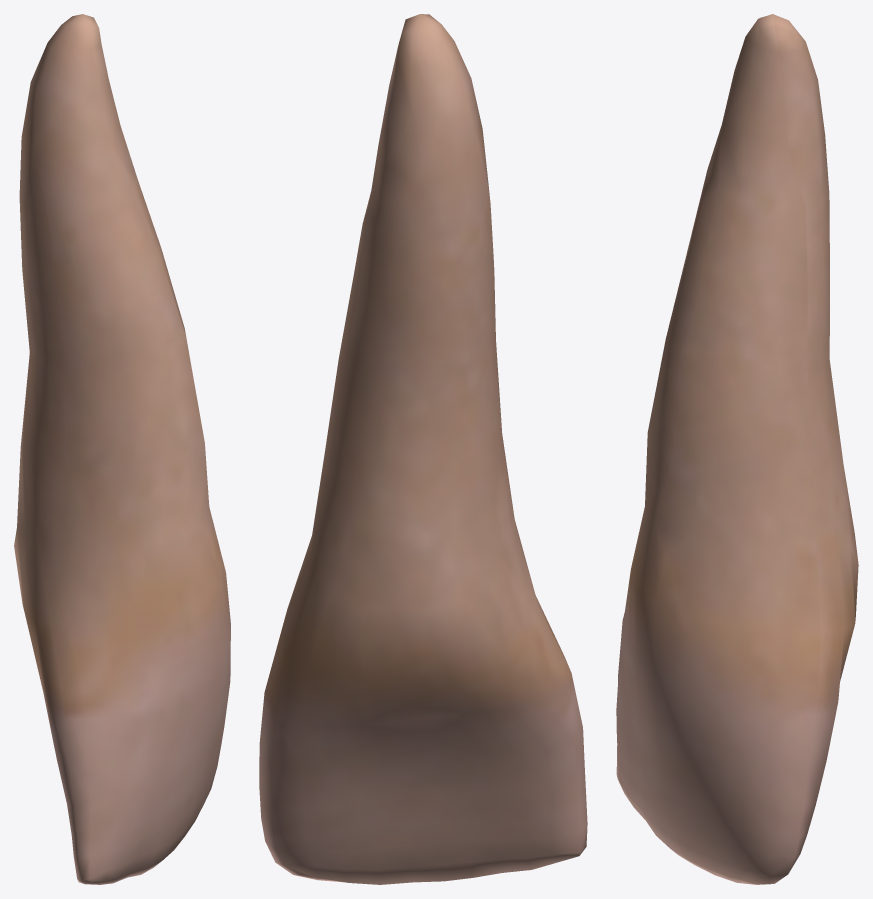
The picture shows the model from 3 angles, left to right: view 1: azimuth 30°, elevation 25°; view 2: azimuth 150°, elevation 25°; view 3: azimuth 270°, elevation 25°; orthographic projection. The views are drawn at different scales.
Parts seen in each view (by area): view 1: t_22; view 2: t_22; view 3: t_22.
Boxes of the visible parts, left/top/right/bottom form: t_22: left=14, top=14, right=230, bottom=884; t_22: left=259, top=14, right=587, bottom=884; t_22: left=616, top=14, right=858, bottom=884.
Size of the model in its own units: 0.0609 by 0.2197 by 0.0581.
1 material, 1 textured.
